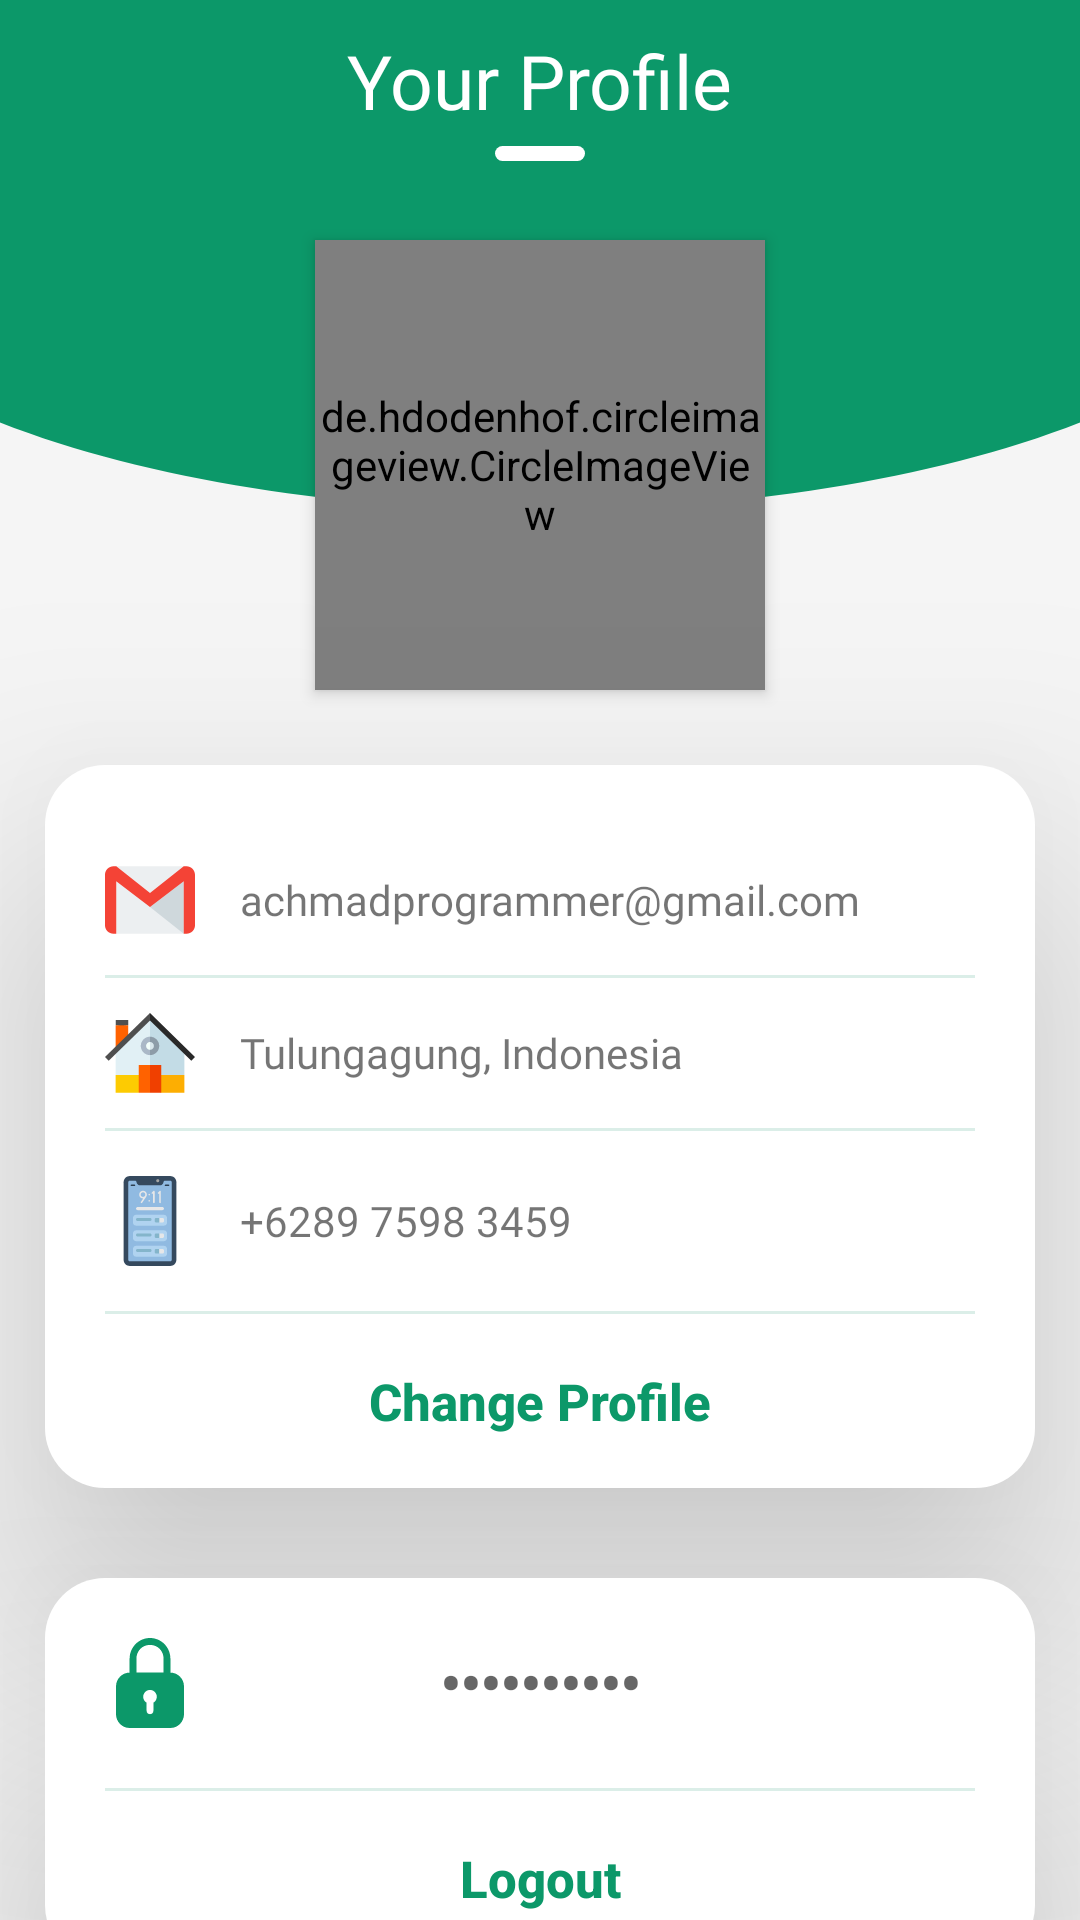

Locate icon controls on the screen. Image size 1080x1920, boxes as (x1=x1, y1=y1, x2=x2, y2=y2).
house: (x1=105, y1=1013, x2=195, y2=1093)
password: (x1=116, y1=1638, x2=184, y2=1728)
phone: (x1=123, y1=1176, x2=177, y2=1266)
